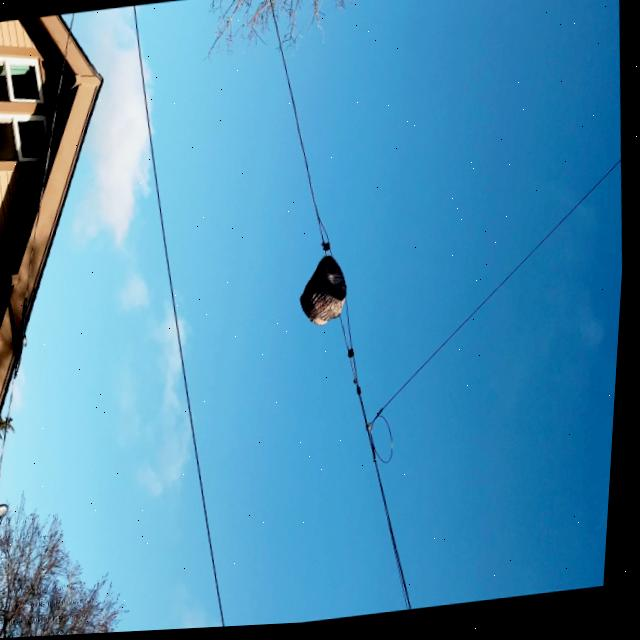obstruction: (302, 257, 349, 329)
wires: (341, 163, 623, 614), (130, 7, 233, 630), (269, 2, 335, 259)
